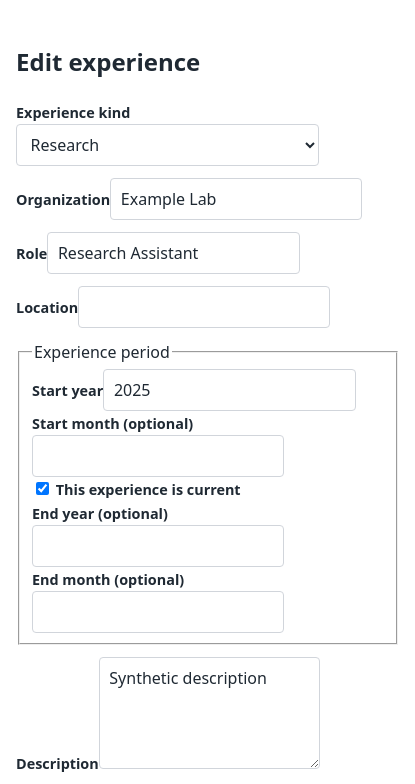
Test case: ExperienceEditorPage › keeps values after a recoverable save failure
Replace the text in the field labelled "Organization" with "Changed Lab" at {"x": 236, "y": 199}, box top-left (110, 178), bottom-right (362, 220)
(page scrolled)
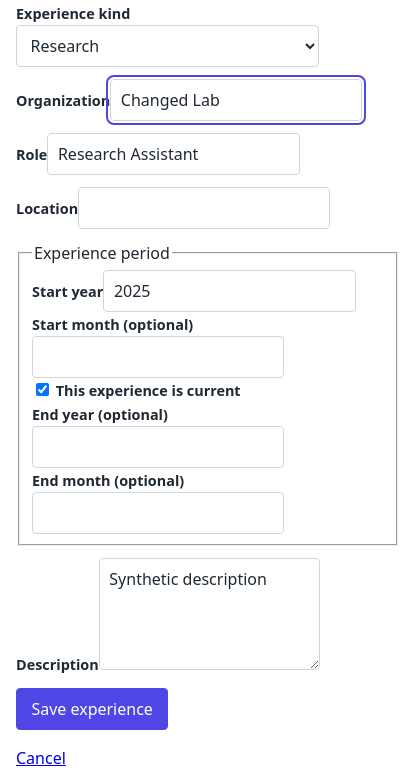
Click the button "Save experience".
click(92, 709)  # box top-left (16, 688), bottom-right (168, 730)
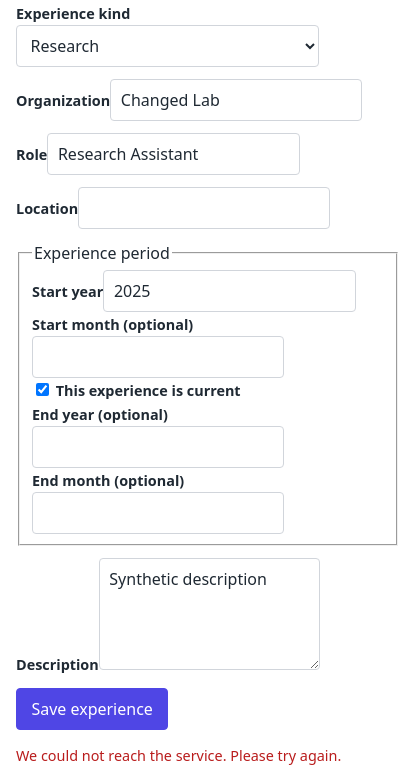
Expected: the message shows "try again", top-left (16, 746), bottom-right (341, 765)
